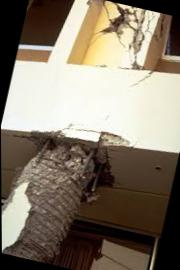crack: (59, 123, 101, 134), (130, 71, 154, 86), (145, 11, 154, 37), (89, 32, 105, 45), (103, 5, 112, 22), (116, 34, 126, 49), (128, 10, 139, 23), (88, 31, 101, 40), (160, 14, 164, 39), (153, 32, 160, 43), (129, 142, 137, 150), (128, 23, 136, 31), (117, 66, 132, 70), (92, 64, 107, 67), (106, 114, 111, 120), (129, 6, 136, 9)
damage: (1, 131, 133, 264), (100, 1, 147, 70), (85, 0, 106, 10)
